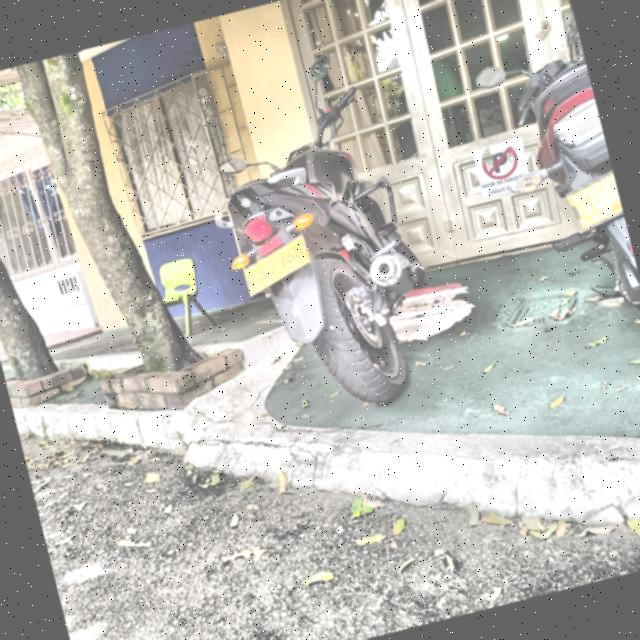6: (284, 246, 296, 265)
7: (276, 251, 288, 269)
E: (247, 268, 260, 288)
G: (292, 241, 304, 259)
O: (263, 258, 275, 278)
S: (255, 266, 268, 282)
